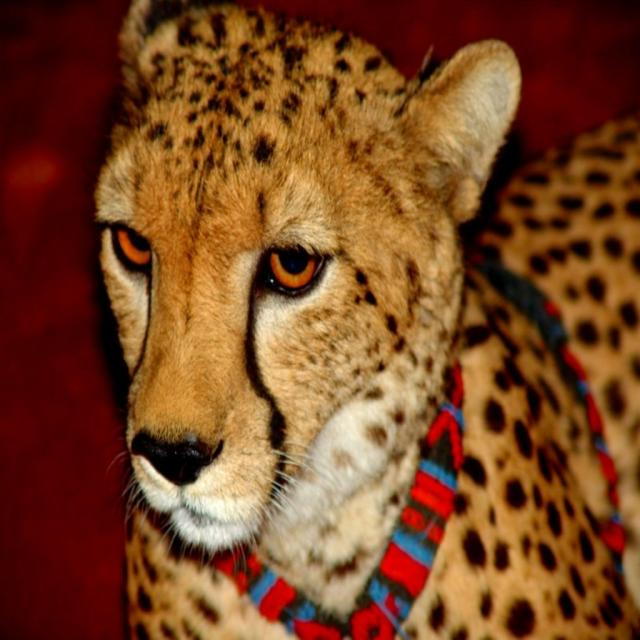Cheetah: (93, 0, 639, 639)
